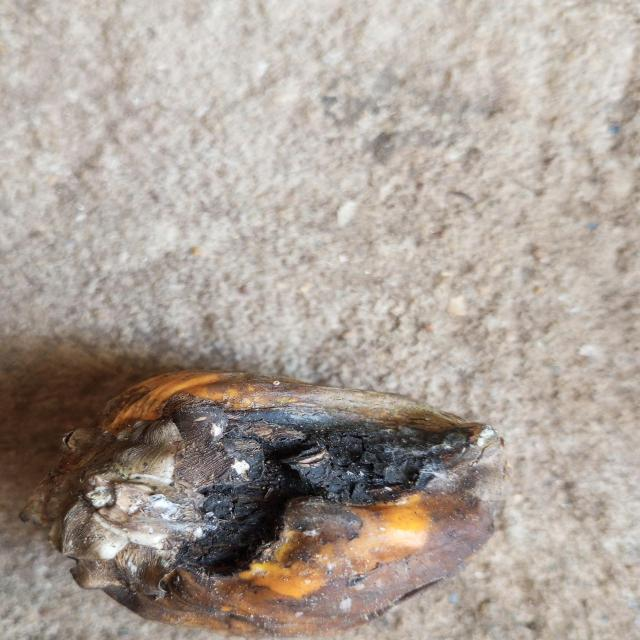damaged: (22, 372, 505, 634)
